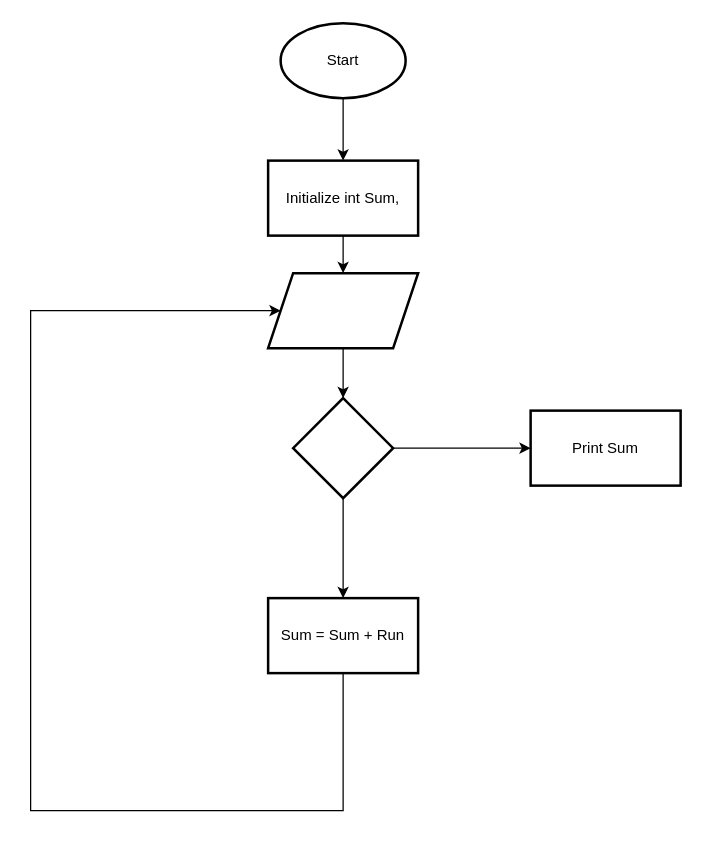
Image size: 704x843. Some labels were removed from this diagram. The shapes that lost their labels are listed below. From the top down, each one's centre as x and y in pixels, then its label:
(342,310): Input int run
(342,447): if(run<0)?
